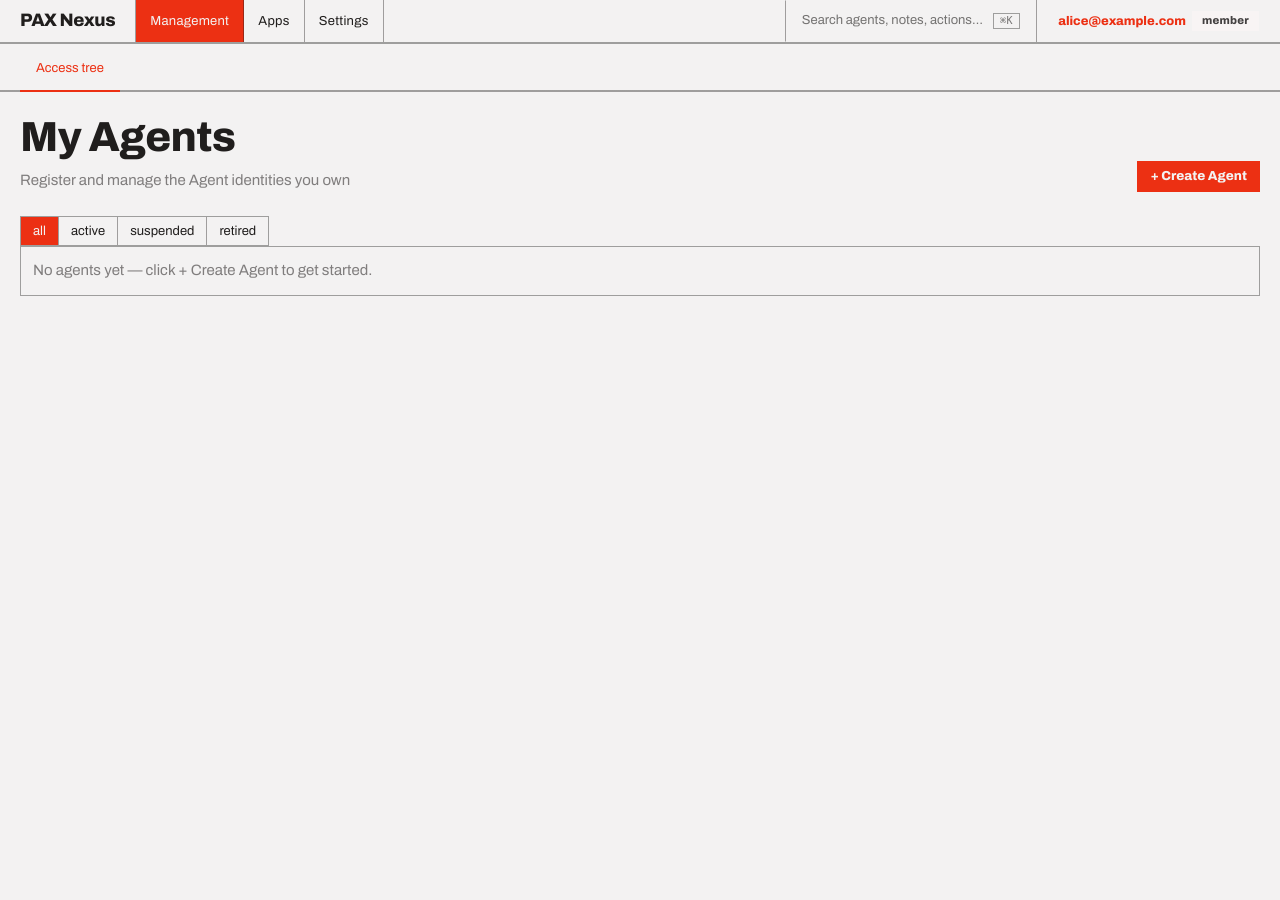
action keys without crypto.randomUUID (plain-HTTP origins) › opens Create Agent when only crypto.getRandomValues exists
The image size is (1280, 900).
Click the button "+ Create Agent" at (1199, 177), box [1138, 161, 1260, 192]
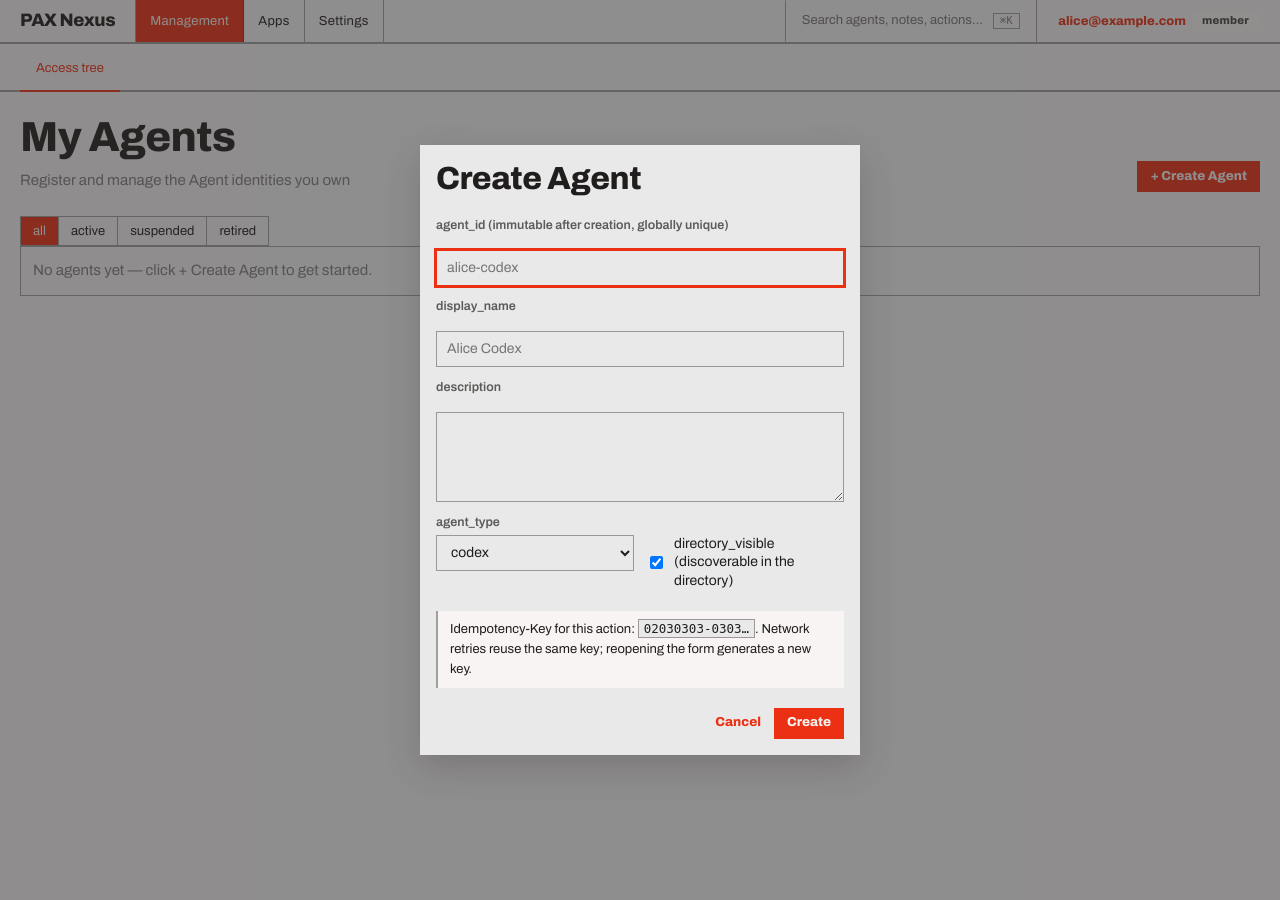
Result: the text "Idempotency-Key" is shown at [450, 622, 638, 636]
Result: the button "Create" is shown at [774, 708, 844, 739]
